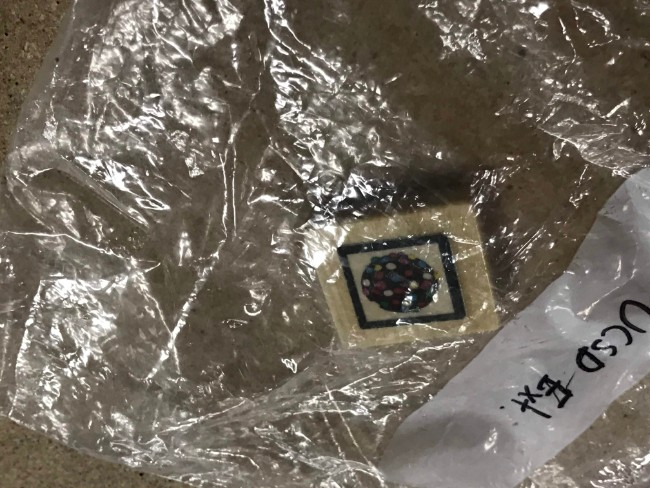cookie: (304, 208, 514, 349)
